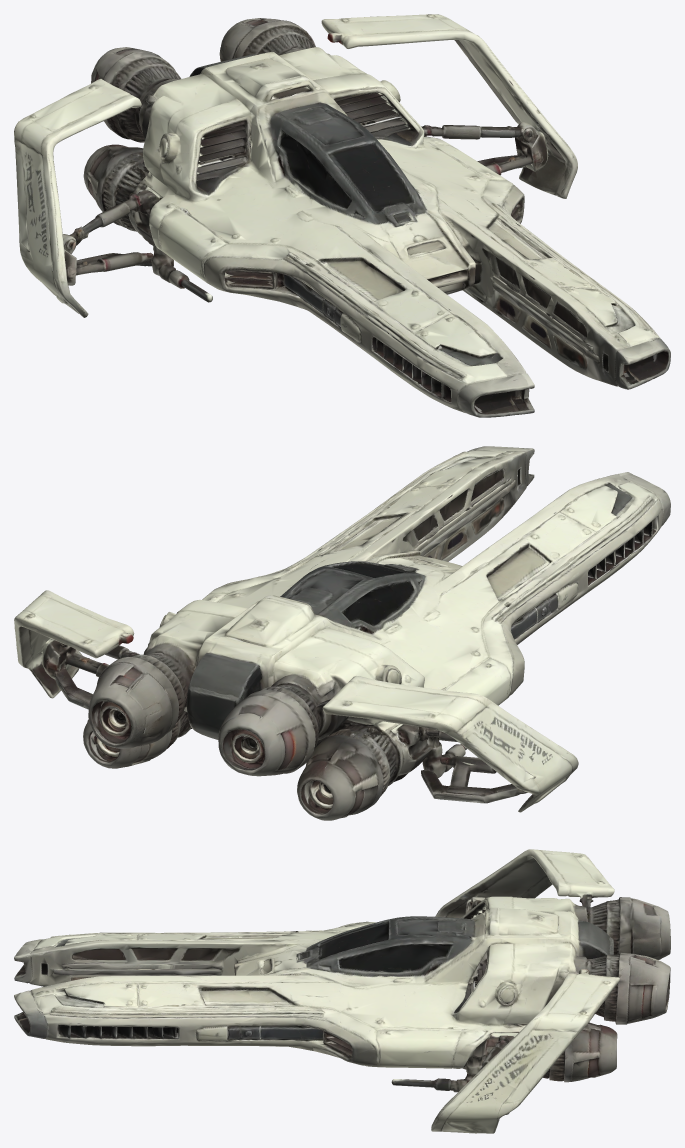
File: ship-02.glb
3 renders of one model, top to bottom at view 1: azimuth 30°, elevation 25°; view 2: azimuth 150°, elevation 25°; view 3: azimuth 270°, elevation 25°, orthographic. The views are drawn at different scales.
Parts seen in each view (by area): view 1: ship; view 2: ship; view 3: ship.
Boxes of the visible parts, <box> form: ship: <box>14,14,670,417</box>; ship: <box>14,446,670,820</box>; ship: <box>14,849,670,1133</box>.
Size of the model in its own units: 2.22 by 0.6346 by 3.
1 material, 1 textured.
